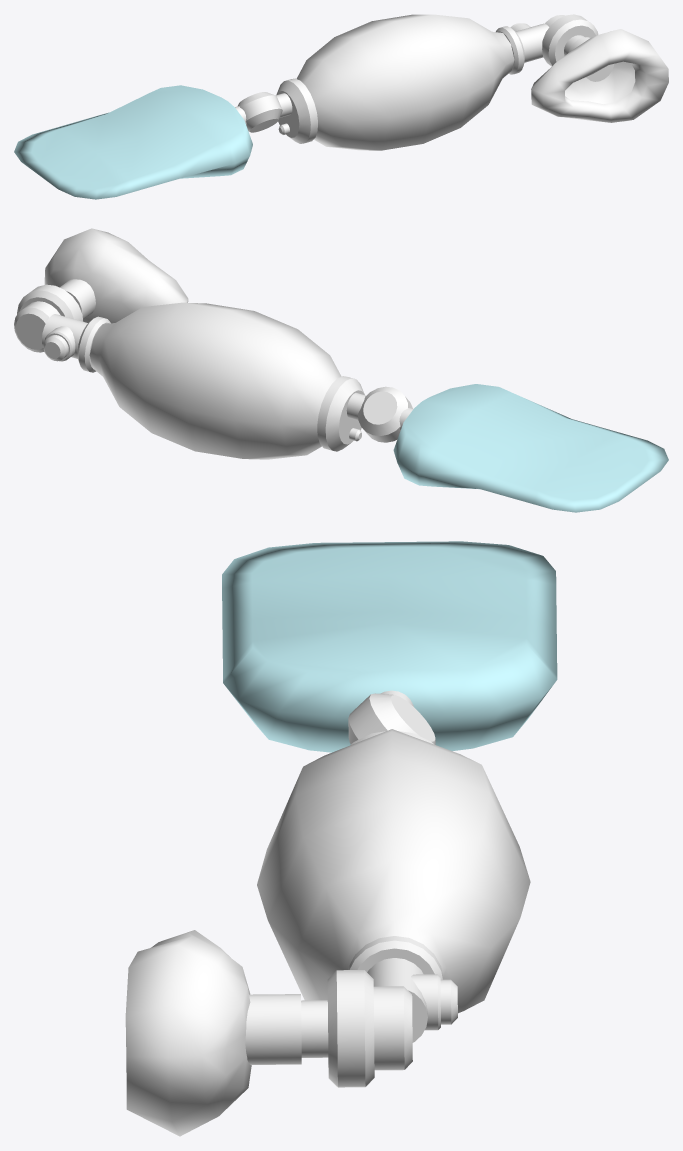
Rendered from Poly(10) Device.fbx.
3 renders of one model, top to bottom at view 1: azimuth 30°, elevation 25°; view 2: azimuth 150°, elevation 25°; view 3: azimuth 270°, elevation 25°, orthographic. The views are drawn at different scales.
Visible parts, largest first — view 1: pSphere1, pCube2, pCylinder13; view 2: pSphere1, pCube2, pCylinder13; view 3: pCube2, pSphere1, pCylinder13.
Boxes of the visible parts, box(x1,y1,x2,y2) form: pSphere1: box(296, 14, 514, 150); pCube2: box(14, 85, 252, 199); pCylinder13: box(235, 14, 668, 143); pSphere1: box(89, 302, 341, 459); pCube2: box(393, 384, 668, 512); pCylinder13: box(14, 228, 413, 451); pCube2: box(222, 541, 557, 752); pSphere1: box(257, 729, 530, 1013); pCylinder13: box(125, 690, 457, 1136).
Size of the model in its own units: 11.56 by 2.42 by 3.82.
